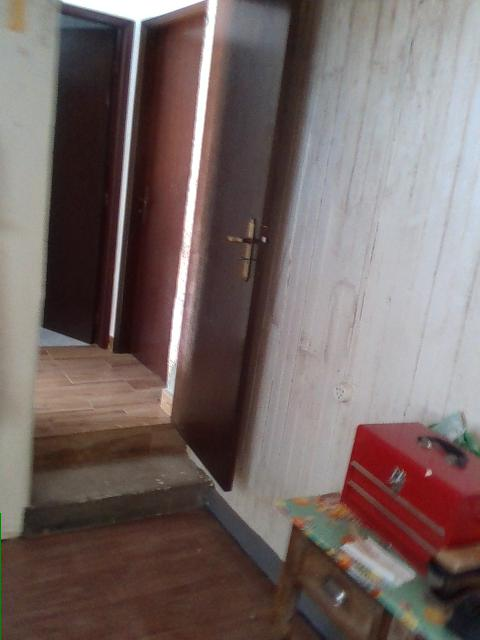door: (173, 1, 296, 491), (129, 15, 203, 385)
